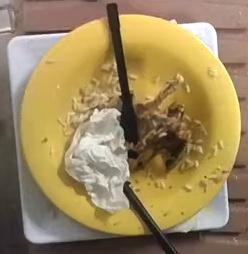rice: (65, 60, 121, 129)
